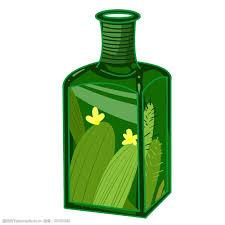glass: (45, 2, 190, 225)
